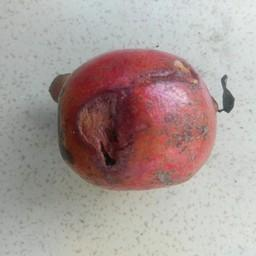Bad_pomegranate: (43, 49, 230, 195)
